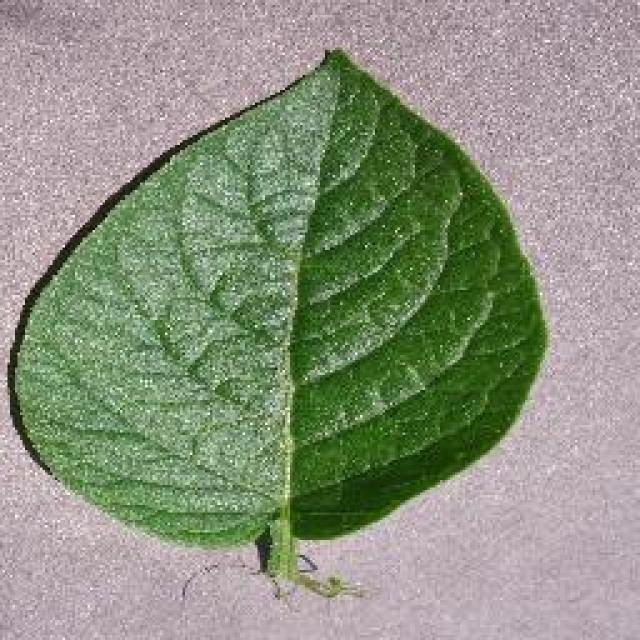healthy: (2, 42, 552, 582)
